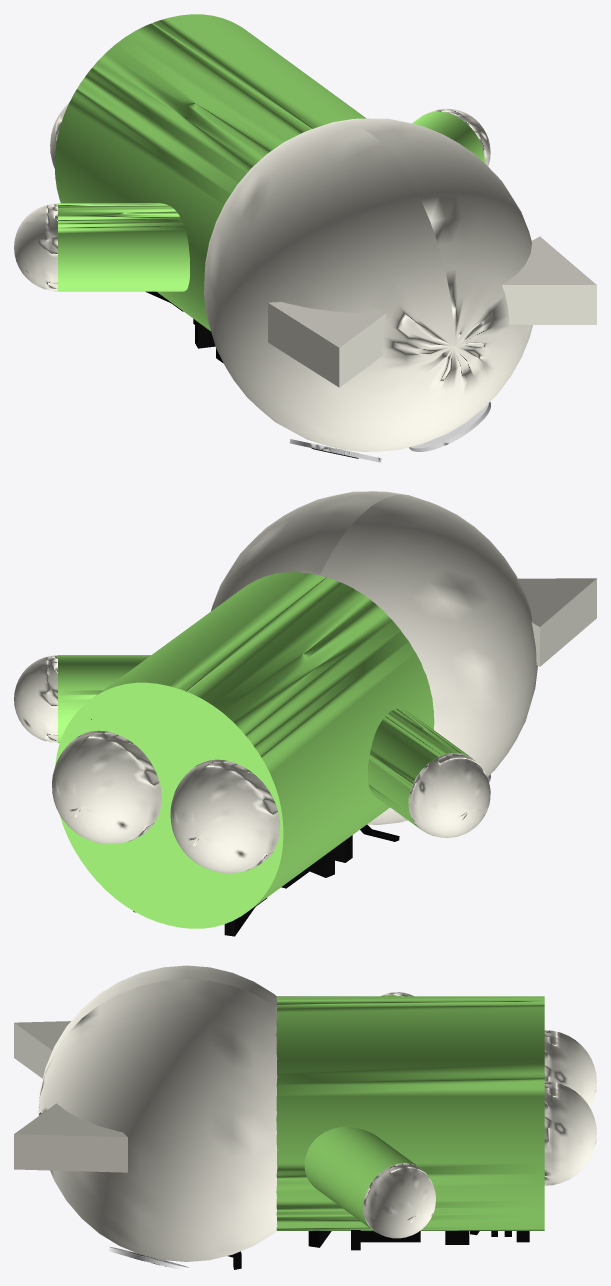
File: kazuma.gltf
3 renders of one model, top to bottom at view 1: azimuth 30°, elevation 25°; view 2: azimuth 150°, elevation 25°; view 3: azimuth 270°, elevation 25°, orthographic. The views are drawn at different scales.
Visible parts, largest first — view 1: Node3, Node4, Node6, Node7, Node13, Node5, Node9, Node14, Node10; view 2: Node4, Node3, Node8, Node12, Node5, Node6, Node7, Node9, Node10, Node11; view 3: Node3, Node4, Node13, Node9, Node8, Node10, Node12, Node7, Node11, Node14.
Boxes of the visible parts, <box> form: Node3: <box>204,118,532,451</box>; Node4: <box>54,14,365,331</box>; Node6: <box>58,203,189,291</box>; Node7: <box>268,302,386,387</box>; Node13: <box>502,236,596,324</box>; Node5: <box>14,203,57,291</box>; Node9: <box>412,111,484,163</box>; Node14: <box>409,402,490,451</box>; Node10: <box>427,108,490,166</box>; Node4: <box>55,572,434,928</box>; Node3: <box>211,491,537,824</box>; Node8: <box>52,730,161,844</box>; Node12: <box>170,759,280,872</box>; Node5: <box>408,753,490,837</box>; Node6: <box>368,708,476,829</box>; Node7: <box>518,578,596,666</box>; Node9: <box>58,655,150,743</box>; Node10: <box>14,655,57,742</box>; Node11: <box>133,835,352,936</box>; Node3: <box>38,965,277,1261</box>; Node4: <box>276,996,544,1230</box>; Node13: <box>14,1103,127,1172</box>; Node9: <box>304,1127,420,1231</box>; Node8: <box>544,1081,596,1185</box>; Node10: <box>363,1163,435,1238</box>; Node12: <box>544,1030,596,1107</box>; Node7: <box>14,1021,70,1078</box>; Node11: <box>308,1230,529,1250</box>; Node14: <box>108,1246,188,1271</box>.
Bounding box in the file's own units: 122 × 79 × 149.
